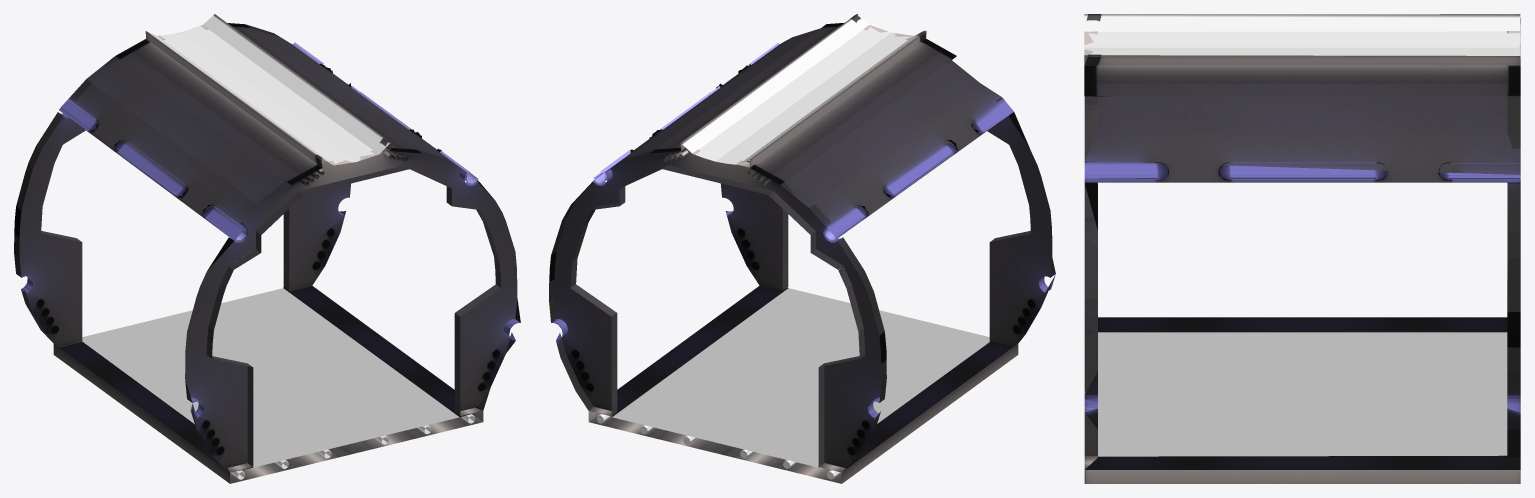
The model's file is Modulo_corridoio_low_poly_DXSX.fbx.
The picture shows the model from 3 angles, left to right: view 1: azimuth 30°, elevation 25°; view 2: azimuth 150°, elevation 25°; view 3: azimuth 270°, elevation 25°; orthographic projection. The views are drawn at different scales.
Visible parts, largest first — view 1: Corridoio_001, Pavimento_001; view 2: Corridoio_001, Pavimento_001; view 3: Corridoio_001, Pavimento_001.
Part boxes in pixels (bbox=[...]): Corridoio_001: bbox=[14, 14, 520, 483]; Pavimento_001: bbox=[82, 288, 459, 467]; Corridoio_001: bbox=[549, 14, 1055, 483]; Pavimento_001: bbox=[612, 288, 989, 467]; Corridoio_001: bbox=[1084, 14, 1520, 483]; Pavimento_001: bbox=[1098, 332, 1507, 456].
Size of the model in its own units: 7.03 by 6.1 by 6.47.
